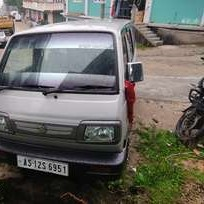AS12S6951: (17, 154, 68, 176)
